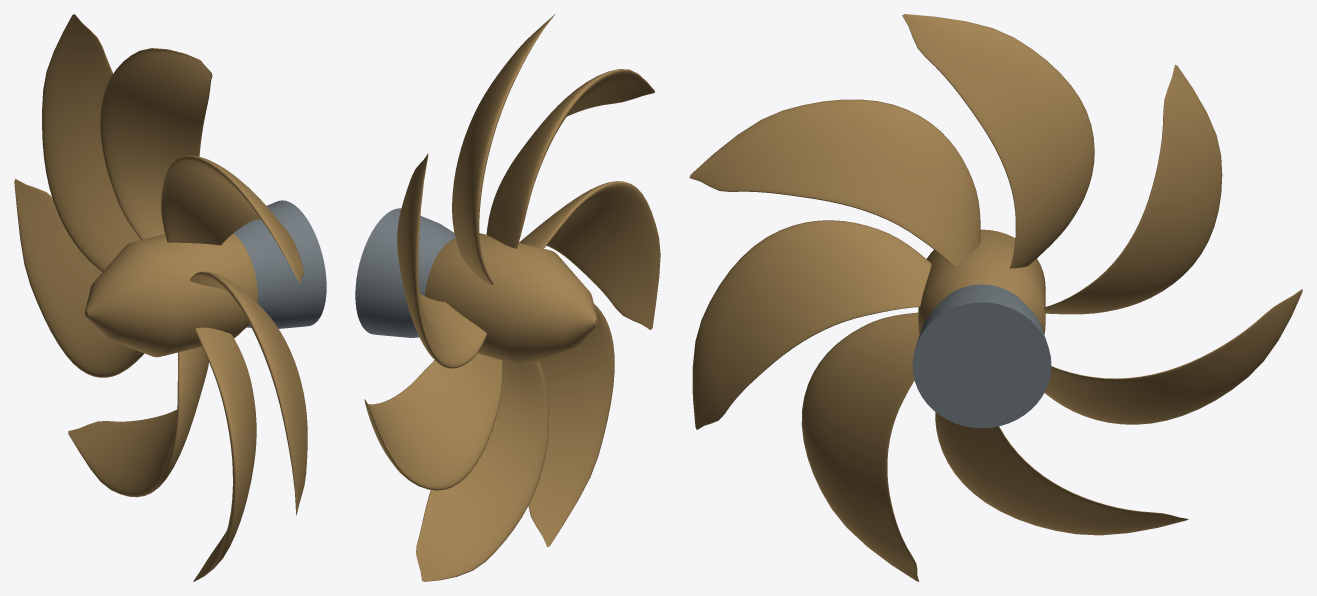
Rendered from RU_SSN_Akula_PROP.fbx.
3 renders of one model, left to right at view 1: azimuth 30°, elevation 25°; view 2: azimuth 150°, elevation 25°; view 3: azimuth 270°, elevation 25°, orthographic. The views are drawn at different scales.
Visible parts, largest first — view 1: RU_SSN_Akula_PROP; view 2: RU_SSN_Akula_PROP; view 3: RU_SSN_Akula_PROP.
Part boxes in pixels (x1,y1,x2,y2): RU_SSN_Akula_PROP: [14, 14, 326, 581]; RU_SSN_Akula_PROP: [355, 14, 660, 581]; RU_SSN_Akula_PROP: [689, 14, 1302, 581].
Size of the model in its own units: 1.75 by 4.15 by 4.24.
